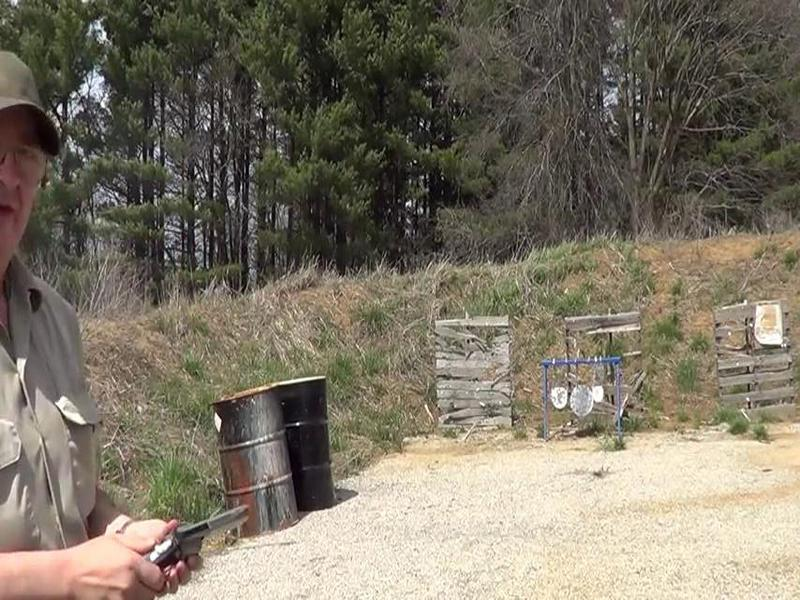Revolver: (132, 488, 267, 591)
